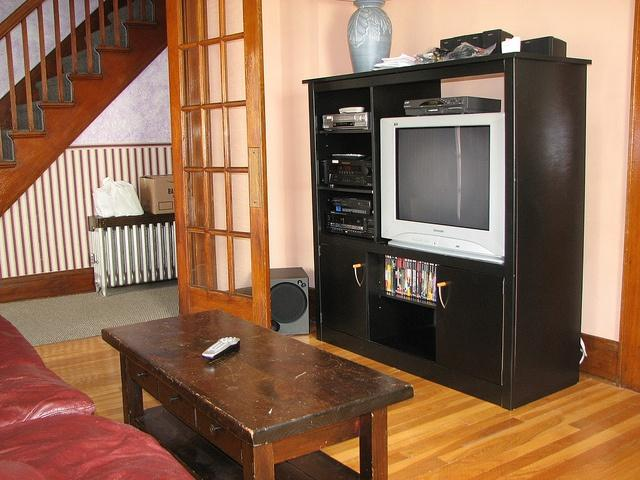Meja: (100, 308, 414, 479)
Rak: (299, 49, 515, 407)
